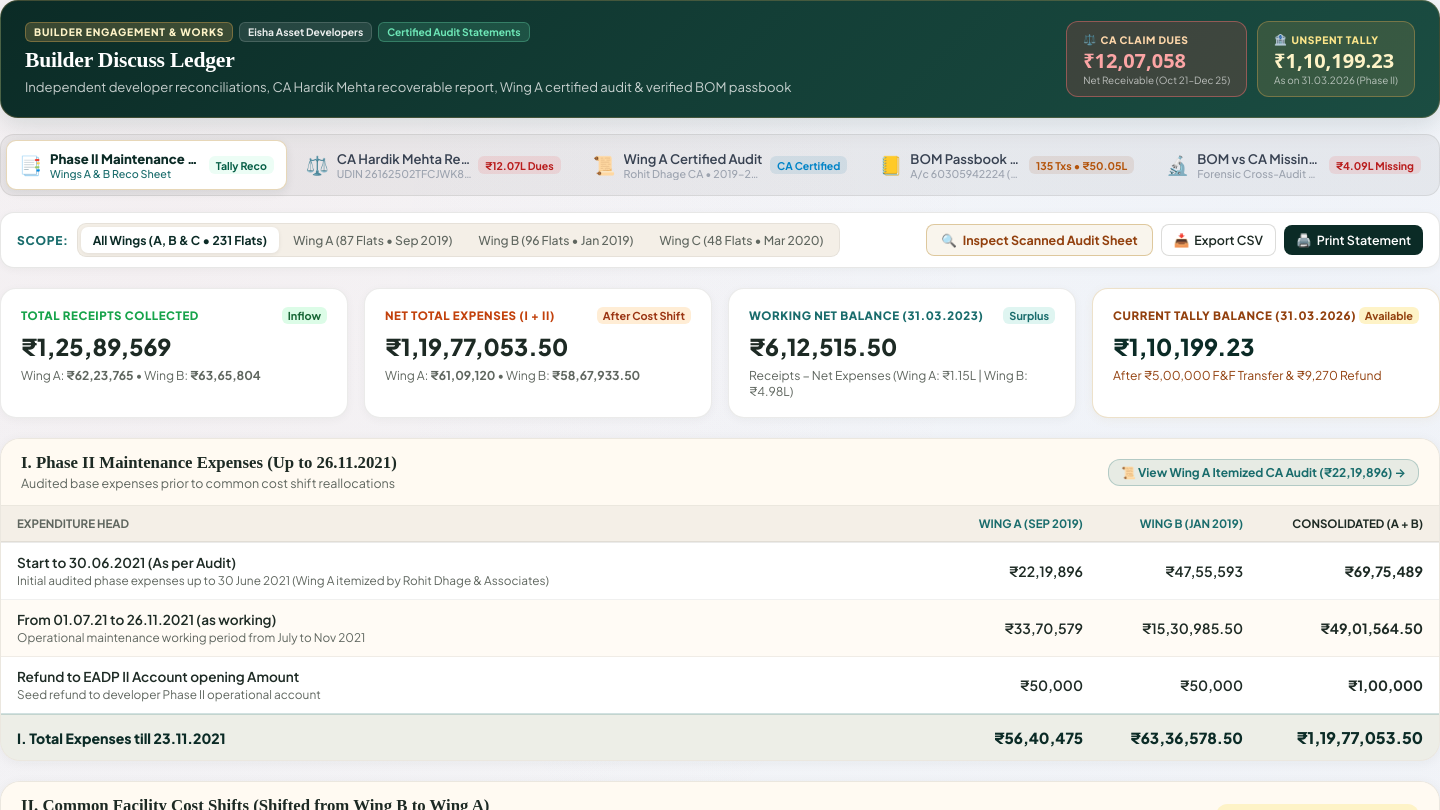
Test case: BuilderDiscuss Component - Design & Features › switches to CA Hardik Mehta Report tab and renders recoverable dues and audit data
Click the button "CA Hardik Mehta Report": (433, 165) [293, 140, 574, 190]
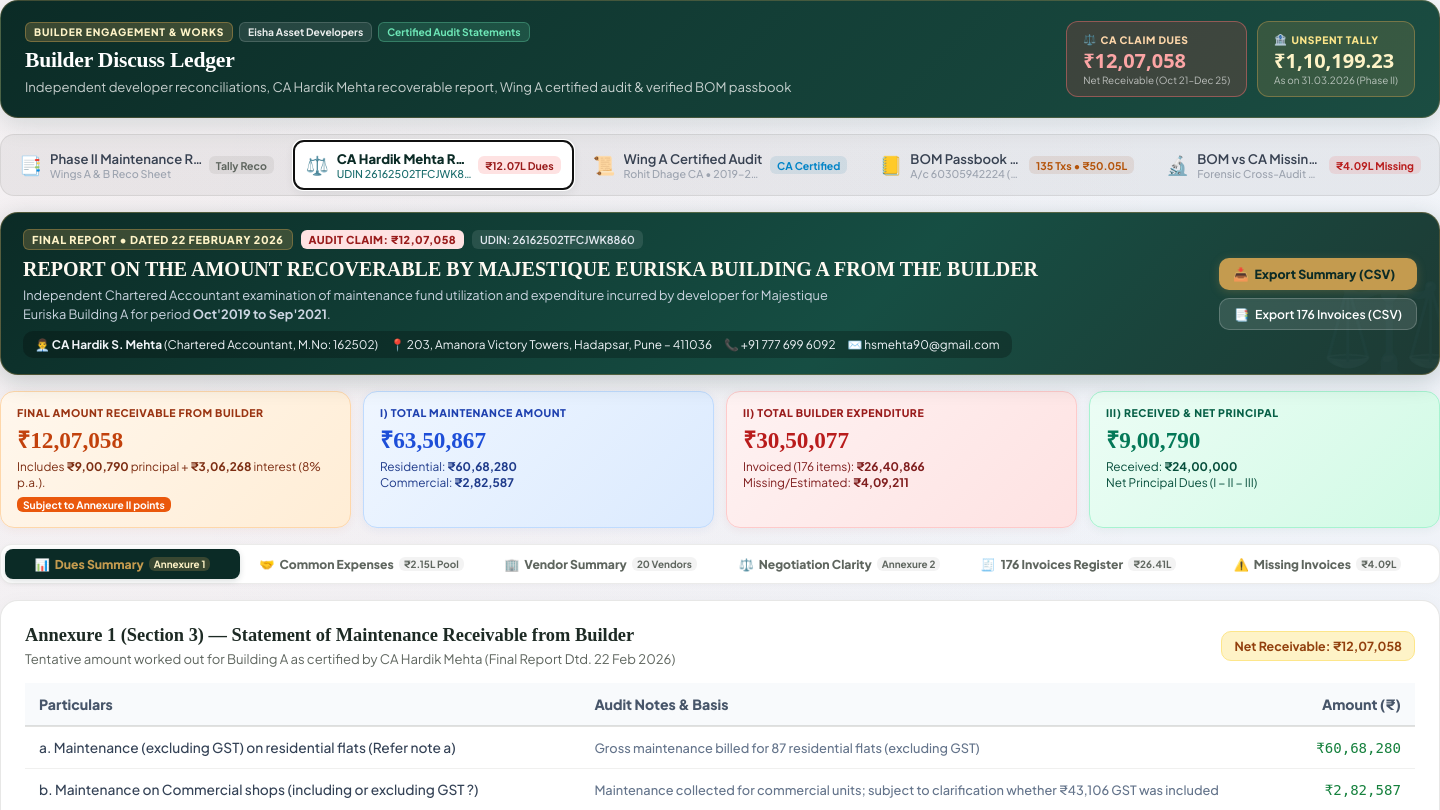
Expected: the text "CA Hardik S. Mehta" is shown, [52, 337, 162, 352]
Expected: the heading "REPORT ON THE AMOUNT RECOVERABLE BY MAJESTIQUE EURISKA BUILDING A FROM THE BUILDER" is shown, [23, 258, 1038, 280]
Expected: the text "₹63,50,867" is shown, [380, 427, 486, 453]
